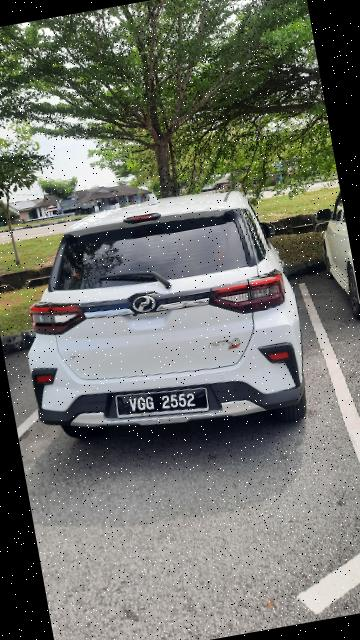License_Plate: (111, 376, 220, 432)
car: (4, 172, 318, 470)
